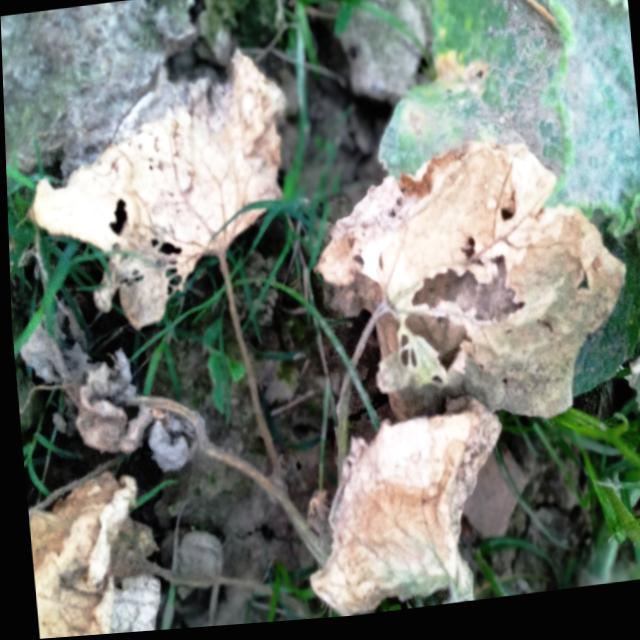Bacterial-Wilt: (313, 146, 624, 429), (23, 47, 286, 334), (302, 397, 502, 621)
